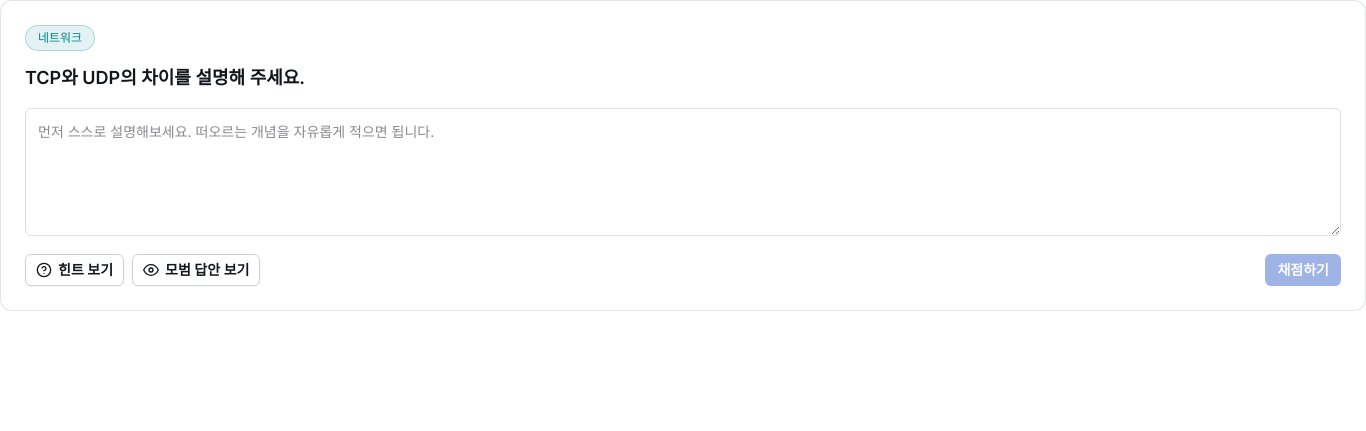
Test case: CsQuestionCard › 모범 답안을 열고 접을 수 있다
Click the button "모범 답안 보기" at (196, 270), box [132,254,260,286]
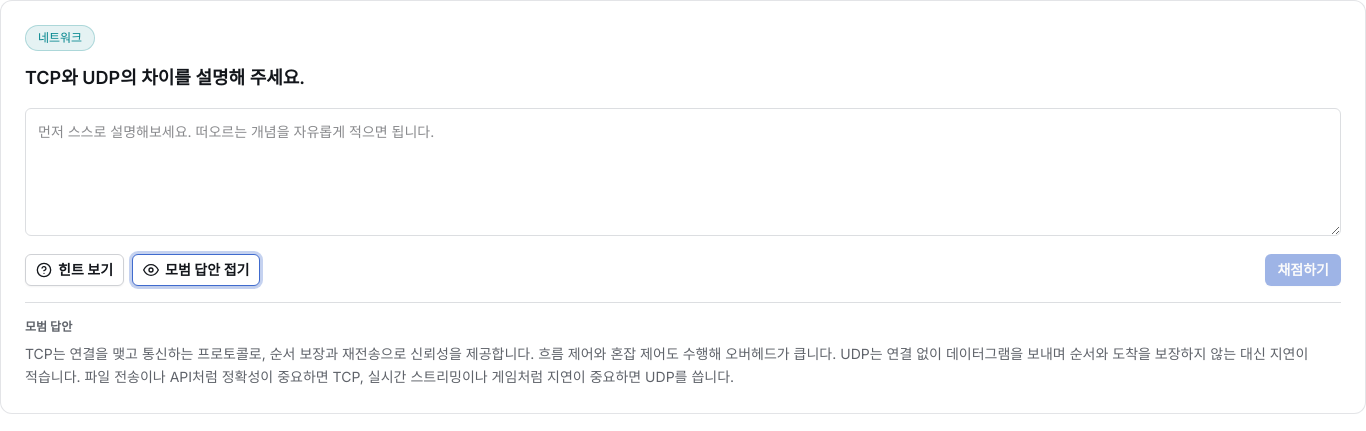
Expected: the text "TCP는 연결을 맺고 통신하는 프로토콜로, 순서 보장과 재전송으로 신뢰성을 제공합니다. 흐름 제어와 혼잡 제어도 수행해 오버헤드가 큽니다. UDP는 연결 없이 데이터그램을 보내며 순서와 도착을 보장하지 않는 대신 지" is shown, [25,345,1308,385]
Click the button "모범 답안 접기" at (196, 270), box [132,254,260,286]
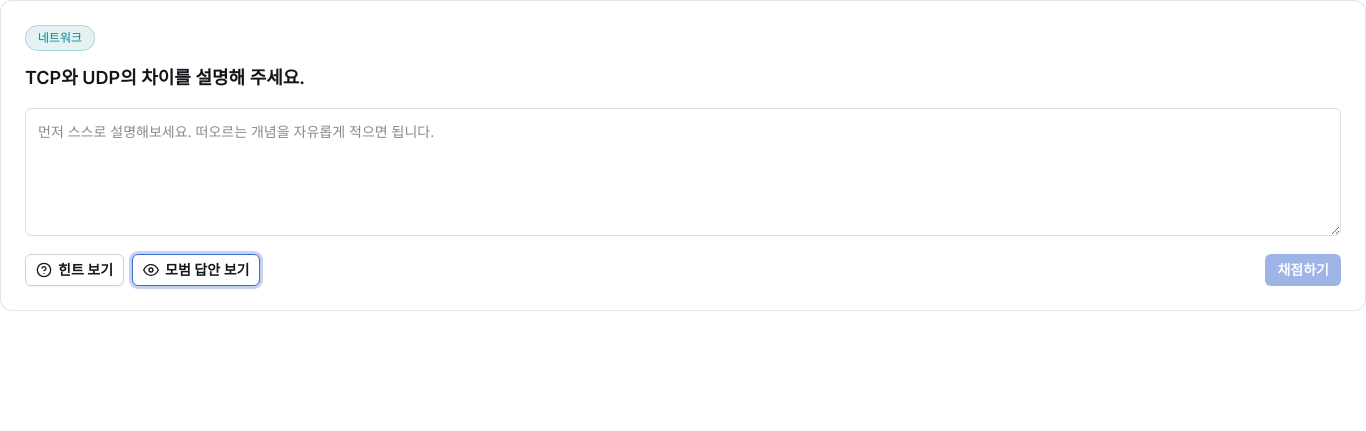
Expected: the text "TCP는 연결을 맺고 통신하는 프로토콜로, 순서 보장과 재전송으로 신뢰성을 제공합니다. 흐름 제어와 혼잡 제어도 수행해 오버헤드가 큽니다. UDP는 연결 없이 데이터그램을 보내며 순서와 도착을 보장하지 않는 대신 지" is gone
